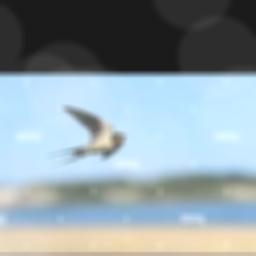Swallow: (47, 106, 124, 164)
